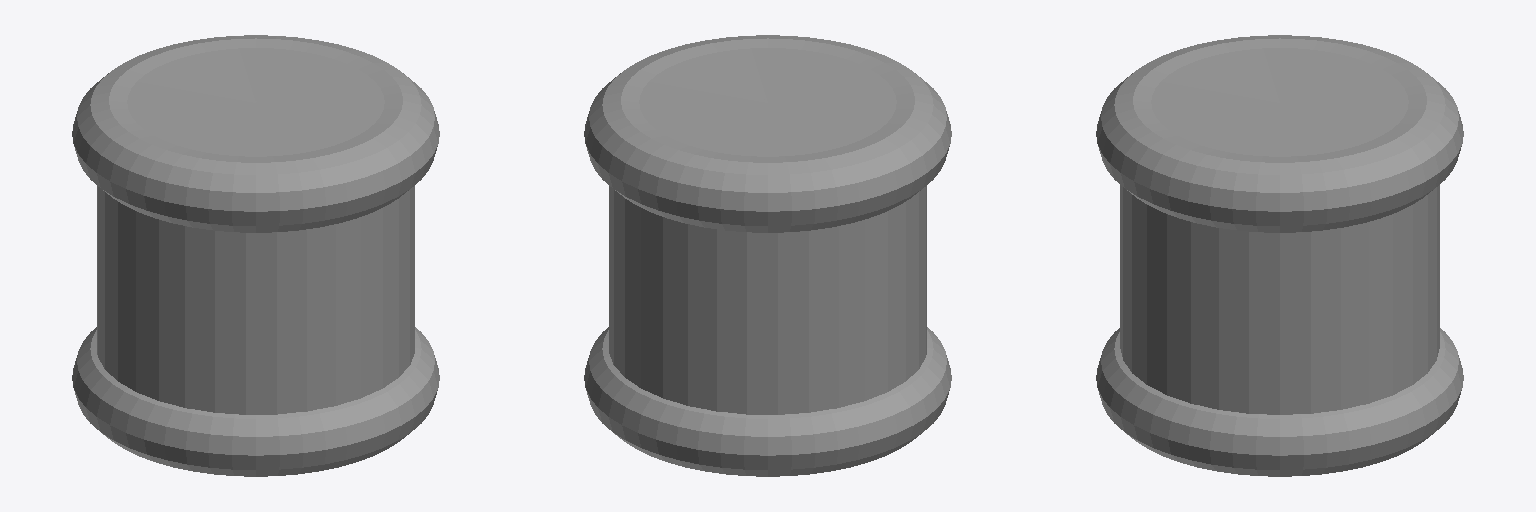
Rendered from atomic_transformer.obj.
The picture shows the model from 3 angles: view 1: azimuth 30°, elevation 25°; view 2: azimuth 150°, elevation 25°; view 3: azimuth 270°, elevation 25°; orthographic projection.
Parts seen in each view (by area): view 1: Torus.001, Cylinder, Torus; view 2: Torus.001, Cylinder, Torus; view 3: Torus.001, Cylinder, Torus.
Boxes of the visible parts, <box> form: Torus.001: <box>72,35,439,232</box>; Cylinder: <box>97,186,414,414</box>; Torus: <box>72,327,439,476</box>; Torus.001: <box>584,35,951,232</box>; Cylinder: <box>609,186,926,414</box>; Torus: <box>584,327,951,476</box>; Torus.001: <box>1096,35,1463,232</box>; Cylinder: <box>1120,185,1439,414</box>; Torus: <box>1096,328,1463,476</box>.
Size of the model in its own units: 1.03 by 0.9564 by 1.03.